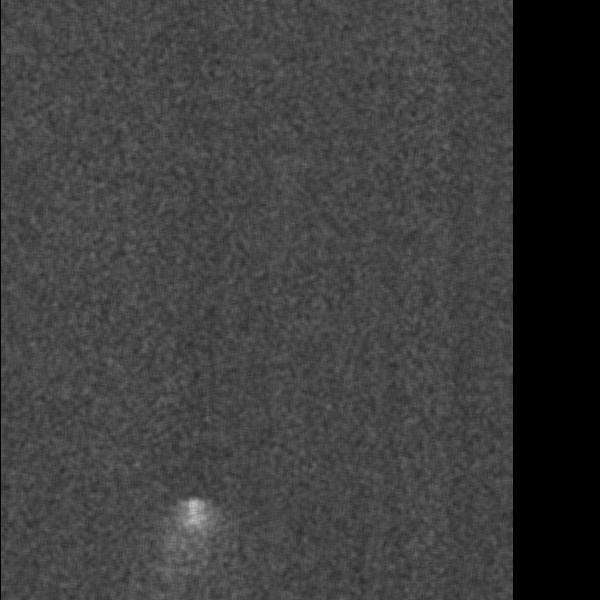spark: (173, 492, 216, 599)
